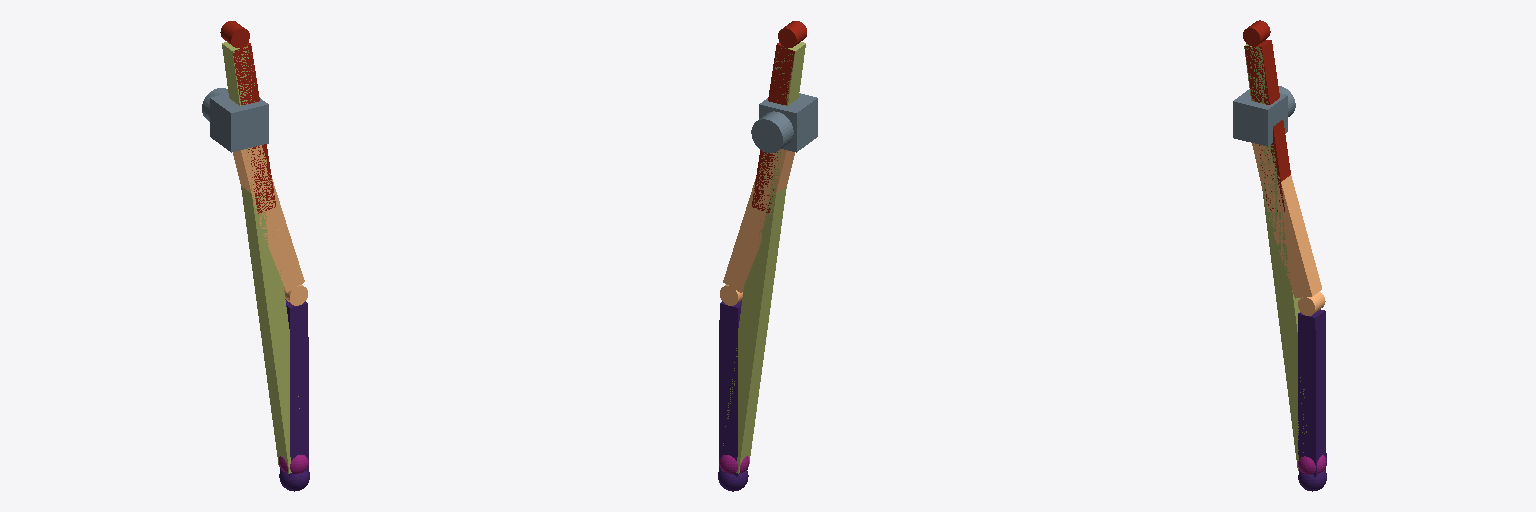
robot.urdf — Robot:
<?xml version="1.0"?>
<robot  name="Robot" >
 <link  name="G" >
  <visual >
   <origin  xyz="0.0 0.0 0.0"  rpy="0.0 0.0 0.0" />
   <geometry >
    <box  size="0.08 0.08 0.08" />
   </geometry>
   <material  name="G_Material" >
    <color  rgba="0.4635767949353661 0.5303853554431317 0.5782602221020643 1.0" />
   </material>
  </visual>
  <collision  name="G_Collision" >
   <origin  xyz="0.0 0.0 0.0"  rpy="0.0 0.0 0.0" />
   <geometry >
    <box  size="0.08 0.08 0.08" />
   </geometry>
  </collision>
  <inertial >
   <origin  xyz="0.0 0.0 0.0"  rpy="0.0 0.0 0.0" />
   <mass  value="1.3824000000000003" />
   <inertia  iyy="0.0014745600000000004"  ixx="0.0014745600000000004"  izz="0.0014745600000000004"  ixy="0.0"  ixz="0.0"  iyz="0.0" />
  </inertial>
 </link>
 <link  name="L3" >
  <visual >
   <origin  xyz="0.005943617642210461 0.0 0.3038690603844638"  rpy="3.141592653589793 0.06512675271764534 3.141592653589793" />
   <geometry >
    <box  size="0.04 0.04 0.14265370559522436" />
   </geometry>
   <material  name="L3_Material" >
    <color  rgba="0.9851078984464116 0.7204218086594748 0.4944865595912864 1.0" />
   </material>
  </visual>
  <collision  name="L3_0_Collision" >
   <origin  xyz="0.005943617642210461 0.0 0.3038690603844638"  rpy="3.141592653589793 0.06512675271764534 3.141592653589793" />
   <geometry >
    <box  size="0.04 0.04 0.14265370559522436" />
   </geometry>
  </collision>
  <visual >
   <origin  xyz="-3.147918948341396e-17 0.0 0.19750115024254924"  rpy="0.0 2.220446049250313e-16 0.0" />
   <geometry >
    <box  size="0.04 0.04 0.3550023004850985" />
   </geometry>
   <material  name="L3_Material" >
    <color  rgba="0.9851078984464116 0.7204218086594748 0.4944865595912864 1.0" />
   </material>
  </visual>
  <collision  name="L3_1_Collision" >
   <origin  xyz="-3.147918948341396e-17 0.0 0.19750115024254924"  rpy="0.0 2.220446049250313e-16 0.0" />
   <geometry >
    <box  size="0.04 0.04 0.3550023004850985" />
   </geometry>
  </collision>
  <visual >
   <origin  xyz="0.005943617642210492 0.0 0.10636791014191457"  rpy="-3.141592653589793 -0.055819872694982564 3.141592653589793" />
   <geometry >
    <box  size="0.04 0.04 0.17306767843701878" />
   </geometry>
   <material  name="L3_Material" >
    <color  rgba="0.9851078984464116 0.7204218086594748 0.4944865595912864 1.0" />
   </material>
  </visual>
  <collision  name="L3_2_Collision" >
   <origin  xyz="0.005943617642210492 0.0 0.10636791014191457"  rpy="-3.141592653589793 -0.055819872694982564 3.141592653589793" />
   <geometry >
    <box  size="0.04 0.04 0.17306767843701878" />
   </geometry>
  </collision>
  <inertial >
   <origin  xyz="0.00396 0.0 0.20258"  rpy="0.0 0.0 0.0" />
   <mass  value="0.12677810266135625" />
   <inertia  iyy="0.0008268292809323227"  ixx="0.0008427377742965327"  izz="1.789900067881942e-05"  ixy="7.5171507471343e-51"  ixz="-1.2755150548106077e-06"  iyz="0.0" />
  </inertial>
 </link>
 <link  name="L6" >
  <visual >
   <origin  xyz="-0.0007016416420337207 0.0 0.3613562880060314"  rpy="3.141592653589793 0.04429253598207983 3.141592653589793" />
   <geometry >
    <box  size="0.04 0.04 -0.008307476834583424" />
   </geometry>
   <material  name="L6_Material" >
    <color  rgba="0.2944306255017942 0.17547226215353084 0.4383372189066508 1.0" />
   </material>
  </visual>
  <collision  name="L6_0_Collision" >
   <origin  xyz="-0.0007016416420337207 0.0 0.3613562880060314"  rpy="3.141592653589793 0.04429253598207983 3.141592653589793" />
   <geometry >
    <box  size="0.04 0.04 -0.008307476834583424" />
   </geometry>
  </collision>
  <visual >
   <origin  xyz="-0.0007016416420286692 0.0 0.18859350415202025"  rpy="3.141592653589793 0.0037203741878473195 3.141592653589793" />
   <geometry >
    <box  size="0.04 0.04 0.33718961867650543" />
   </geometry>
   <material  name="L6_Material" >
    <color  rgba="0.2944306255017942 0.17547226215353084 0.4383372189066508 1.0" />
   </material>
  </visual>
  <collision  name="L6_1_Collision" >
   <origin  xyz="-0.0007016416420286692 0.0 0.18859350415202025"  rpy="3.141592653589793 0.0037203741878473195 3.141592653589793" />
   <geometry >
    <box  size="0.04 0.04 0.33718961867650543" />
   </geometry>
  </collision>
  <visual >
   <origin  xyz="-5.051514762044462e-15 0.0 0.17276278385401123"  rpy="0.0 3.175237850427948e-14 0.0" />
   <geometry >
    <box  size="0.04 0.04 0.30552556770802236" />
   </geometry>
   <material  name="L6_Material" >
    <color  rgba="0.2944306255017942 0.17547226215353084 0.4383372189066508 1.0" />
   </material>
  </visual>
  <collision  name="L6_2_Collision" >
   <origin  xyz="-5.051514762044462e-15 0.0 0.17276278385401123"  rpy="0.0 3.175237850427948e-14 0.0" />
   <geometry >
    <box  size="0.04 0.04 0.30552556770802236" />
   </geometry>
  </collision>
  <inertial >
   <origin  xyz="-0.00047 0.0 0.2409"  rpy="0.0 0.0 0.0" />
   <mass  value="0.013091496841132533" />
   <inertia  iyy="9.551859498546327e-05"  ixx="9.726269561934489e-05"  izz="1.7469651904203893e-06"  ixy="-2.3264454728053903e-24"  ixz="2.086384055509968e-07"  iyz="0.0" />
  </inertial>
 </link>
 <link  name="EE" >
  <visual >
   <origin  xyz="0.0 0.0 0.0"  rpy="0.0 0.0 0.0" />
   <geometry >
    <sphere  radius="0.028571428571428574" />
   </geometry>
   <material  name="EE_Material" >
    <color  rgba="0.6340190557065848 0.1770517687902704 0.5244006426398323 1.0" />
   </material>
  </visual>
  <collision  name="EE_Collision" >
   <origin  xyz="0.0 0.0 0.0"  rpy="0.0 0.0 0.0" />
   <geometry >
    <sphere  radius="0.028571428571428574" />
   </geometry>
  </collision>
  <inertial >
   <origin  xyz="0.0 0.0 0.0"  rpy="0.0 0.0 0.0" />
   <mass  value="0.2637838729544783" />
   <inertia  iyy="8.61335095361562e-05"  ixx="8.61335095361562e-05"  izz="8.61335095361562e-05"  ixy="0.0"  ixz="0.0"  iyz="0.0" />
  </inertial>
 </link>
 <link  name="L4" >
  <visual >
   <origin  xyz="-0.0 0.0 0.19476"  rpy="0.0 0.0 0.0" />
   <geometry >
    <box  size="0.04 0.04 0.3495130086573358" />
   </geometry>
   <material  name="L4_Material" >
    <color  rgba="0.6392964616141075 0.18049610535370353 0.11456833343742956 1.0" />
   </material>
  </visual>
  <collision  name="L4_Collision" >
   <origin  xyz="-0.0 0.0 0.19476"  rpy="0.0 0.0 0.0" />
   <geometry >
    <box  size="0.04 0.04 0.3495130086573358" />
   </geometry>
  </collision>
  <inertial >
   <origin  xyz="-0.0 0.0 0.19476"  rpy="0.0 0.0 0.0" />
   <mass  value="1.5098961973996907" />
   <inertia  iyy="0.015571980143468542"  ixx="0.015571980143468542"  izz="0.00040263898597325083"  ixy="0.0"  ixz="0.0"  iyz="0.0" />
  </inertial>
 </link>
 <link  name="L5" >
  <visual >
   <origin  xyz="0.0 0.0 0.47072"  rpy="0.0 0.0 0.0" />
   <geometry >
    <box  size="0.04 0.04 0.9014390147491013" />
   </geometry>
   <material  name="L5_Material" >
    <color  rgba="0.6937715577541456 0.7314644730712613 0.4265329929977979 1.0" />
   </material>
  </visual>
  <collision  name="L5_Collision" >
   <origin  xyz="0.0 0.0 0.47072"  rpy="0.0 0.0 0.0" />
   <geometry >
    <box  size="0.04 0.04 0.9014390147491013" />
   </geometry>
  </collision>
  <inertial >
   <origin  xyz="0.0 0.0 0.47072"  rpy="0.0 0.0 0.0" />
   <mass  value="3.894216543716118" />
   <inertia  iyy="0.26422009282983017"  ixx="0.26422009282983017"  izz="0.0010384577449909648"  ixy="0.0"  ixz="0.0"  iyz="0.0" />
  </inertial>
 </link>
 <joint  type="revolute"  name="G0main" >
  <parent  link="G" />
  <child  link="L3" />
  <origin  xyz="0.0 0.0 0.0"  rpy="3.141592653589793 0.2983891655602269 3.141592653589793" />
  <axis  xyz="0 1 0" />
  <limit  effort="5.3999999999999995"  upper="3.141592653589793"  velocity="17.907078125461823"  lower="-3.141592653589793" />
  <dynamics  damping="0.05"  friction="0" />
 </joint>
 <joint  type="fixed"  name="G0main_G_WeldActuator" >
  <parent  link="G" />
  <child  link="G0main_GActuator" />
  <origin  xyz="0.0 0.05975 0.0"  rpy="-1.5707963267948972 0.29838916556022665 -3.141592653589793" />
 </joint>
 <link  name="G0main_GActuator" >
  <visual >
   <geometry >
    <cylinder  length="0.0395"  radius="0.034" />
   </geometry>
   <material  name="G0main_GActuator_Material" >
    <color  rgba="0.4635767949353661 0.5303853554431317 0.5782602221020643 0.9" />
   </material>
  </visual>
  <inertial >
   <inertia  iyy="0.004339333333333334"  ixx="0.004339333333333334"  izz="0.006256"  ixy="0.0"  ixz="0.0"  iyz="0.0" />
   <mass  value="0.1" />
  </inertial>
 </link>
 <link  name="G0main_GUnit" >
  <visual >
   <geometry >
    <cylinder  length="0.08"  radius="0.04" />
   </geometry>
   <material  name="G0main_GUnit_Material" >
    <color  rgba="0.4635767949353661 0.5303853554431317 0.5782602221020643 0.9" />
   </material>
  </visual>
  <inertial >
   <inertia  iyy="0.0016666666666666666"  ixx="0.0016666666666666666"  izz="0.002"  ixy="0.0"  ixz="0.0"  iyz="0.0" />
   <mass  value="0.1" />
  </inertial>
 </link>
 <joint  type="fixed"  name="G0main_G_WeldUnit" >
  <parent  link="G" />
  <child  link="G0main_GUnit" />
  <origin  xyz="0.0 0.0 0.0"  rpy="-1.5707963267948972 0.29838916556022665 -3.141592653589793" />
 </joint>
 <joint  type="revolute"  name="J0m" >
  <parent  link="L3" />
  <child  link="L6" />
  <origin  xyz="-6.295837896682792e-17 0.0 0.3950023004850985"  rpy="0.0 0.2953707173551767 0.0" />
  <axis  xyz="0 1 0" />
  <limit  effort="600.0"  upper="3.141592653589793"  velocity="6.283185307179586"  lower="-3.141592653589793" />
  <dynamics  damping="0.05"  friction="0" />
 </joint>
 <link  name="J0m_L3Unit" >
  <visual >
   <geometry >
    <cylinder  length="0.04"  radius="0.02" />
   </geometry>
   <material  name="J0m_L3Unit_Material" >
    <color  rgba="0.9851078984464116 0.7204218086594748 0.4944865595912864 0.9" />
   </material>
  </visual>
  <inertial >
   <inertia  iyy="0.0008333333333333333"  ixx="0.0008333333333333333"  izz="0.001"  ixy="0.0"  ixz="0.0"  iyz="0.0" />
   <mass  value="0.1" />
  </inertial>
 </link>
 <joint  type="fixed"  name="J0m_L3_WeldUnit" >
  <parent  link="L3" />
  <child  link="J0m_L3Unit" />
  <origin  xyz="-6.295837896682792e-17 0.0 0.3950023004850985"  rpy="1.5707963267948966 0.29537071735517695 -1.1102230246251565e-16" />
 </joint>
 <joint  type="revolute"  name="Jee" >
  <parent  link="L6" />
  <child  link="EE" />
  <origin  xyz="-1.0103029524088925e-14 0.0 0.3455255677080224"  rpy="3.141592653589793 -0.0030184482050499284 3.141592653589793" />
  <axis  xyz="0 1 0" />
  <limit  effort="600.0"  upper="3.141592653589793"  velocity="6.283185307179586"  lower="-3.141592653589793" />
  <dynamics  damping="0.05"  friction="0" />
 </joint>
 <link  name="Jee_L6Unit" >
  <visual >
   <geometry >
    <cylinder  length="0.04"  radius="0.02" />
   </geometry>
   <material  name="Jee_L6Unit_Material" >
    <color  rgba="0.2944306255017942 0.17547226215353084 0.4383372189066508 0.9" />
   </material>
  </visual>
  <inertial >
   <inertia  iyy="0.0008333333333333333"  ixx="0.0008333333333333333"  izz="0.001"  ixy="0.0"  ixz="0.0"  iyz="0.0" />
   <mass  value="0.1" />
  </inertial>
 </link>
 <joint  type="fixed"  name="Jee_L6_WeldUnit" >
  <parent  link="L6" />
  <child  link="Jee_L6Unit" />
  <origin  xyz="-1.0103029524088925e-14 0.0 0.3455255677080224"  rpy="-1.5707963267948966 -0.0030184482050497063 -3.141592653589793" />
 </joint>
 <joint  type="revolute"  name="J0_0" >
  <parent  link="L3" />
  <child  link="L4" />
  <origin  xyz="0.011887235284420984 0.0 0.21273582028382915"  rpy="3.141592653589793 -0.14431597602384483 3.141592653589793" />
  <axis  xyz="0 1 0" />
  <limit  effort="600.0"  upper="3.141592653589793"  velocity="6.283185307179586"  lower="-3.141592653589793" />
  <dynamics  damping="0.05"  friction="0" />
 </joint>
 <link  name="J0_0_L3Unit" >
  <visual >
   <geometry >
    <cylinder  length="0.04"  radius="0.02" />
   </geometry>
   <material  name="J0_0_L3Unit_Material" >
    <color  rgba="0.9851078984464116 0.7204218086594748 0.4944865595912864 0.9" />
   </material>
  </visual>
  <inertial >
   <inertia  iyy="0.0008333333333333333"  ixx="0.0008333333333333333"  izz="0.001"  ixy="0.0"  ixz="0.0"  iyz="0.0" />
   <mass  value="0.1" />
  </inertial>
 </link>
 <joint  type="fixed"  name="J0_0_L3_WeldUnit" >
  <parent  link="L3" />
  <child  link="J0_0_L3Unit" />
  <origin  xyz="0.011887235284420984 0.0 0.21273582028382915"  rpy="-1.570796326794897 -0.14431597602384505 3.1415926535897927" />
 </joint>
 <joint  type="revolute"  name="J1_0" >
  <parent  link="L4" />
  <child  link="L5" />
  <origin  xyz="-6.938893903907228e-18 0.0 0.38951300865733574"  rpy="3.141592653589793 -0.018478869246324248 3.141592653589793" />
  <axis  xyz="0 1 0" />
  <limit  effort="600.0"  upper="3.141592653589793"  velocity="6.283185307179586"  lower="-3.141592653589793" />
  <dynamics  damping="0.05"  friction="0" />
 </joint>
 <link  name="J1_0_L4Unit" >
  <visual >
   <geometry >
    <cylinder  length="0.04"  radius="0.02" />
   </geometry>
   <material  name="J1_0_L4Unit_Material" >
    <color  rgba="0.6392964616141075 0.18049610535370353 0.11456833343742956 0.9" />
   </material>
  </visual>
  <inertial >
   <inertia  iyy="0.0008333333333333333"  ixx="0.0008333333333333333"  izz="0.001"  ixy="0.0"  ixz="0.0"  iyz="0.0" />
   <mass  value="0.1" />
  </inertial>
 </link>
 <joint  type="fixed"  name="J1_0_L4_WeldUnit" >
  <parent  link="L4" />
  <child  link="J1_0_L4Unit" />
  <origin  xyz="-6.938893903907228e-18 0.0 0.38951300865733574"  rpy="-1.570796326794897 -0.018478869246324248 3.1415926535897927" />
 </joint>
 <link  name="J2_0_L6Pseudo" >
  <visual >
   <geometry >
    <sphere  radius="0.028571428571428574" />
   </geometry>
   <material  name="J2_0_L6Pseudo_Material" >
    <color  rgba="0.2944306255017942 0.17547226215353084 0.4383372189066508 0.5" />
   </material>
  </visual>
 </link>
 <joint  type="revolute"  name="J2_0_L6_revolute" >
  <parent  link="L6" />
  <child  link="J2_0_L6Pseudo" />
  <origin  xyz="-0.0014032832840573384 0.0 0.37718700830404045"  rpy="0.0 0.0 0.0" />
  <axis  xyz="0 1 0" />
  <limit  effort="600.0"  upper="3.141592653589793"  velocity="6.283185307179586"  lower="-3.141592653589793" />
  <dynamics  damping="0.05"  friction="0" />
 </joint>
 <joint  type="fixed"  name="J2_0_L6_Weld" >
  <parent  link="L5" />
  <child  link="J2_0_L5Pseudo" />
  <origin  xyz="3.122502256758253e-16 0.0 0.9414390147491014"  rpy="0.0 0.13257587208500743 0.0" />
 </joint>
 <link  name="J2_0_L5Pseudo" >
  <visual >
   <geometry >
    <sphere  radius="0.028571428571428574" />
   </geometry>
   <material  name="J2_0_L5Pseudo_Material" >
    <color  rgba="0.6937715577541456 0.7314644730712613 0.4265329929977979 0.5" />
   </material>
  </visual>
 
 </link>
</robot>

--- What the picture shows (computed from the rendered views, not written in the file) ---
3 views of the same robot in one strip: view 1: azimuth 30°, elevation 25°; view 2: azimuth 150°, elevation 25°; view 3: azimuth 330°, elevation 25° (orthographic).
Model Robot with 14 links and 13 joints (6 revolute, 7 fixed), rooted at G, posed all joints at 0.
Visible links, largest first — view 1: L5, L3, L6, G, L4, J1_0_L4Unit; view 2: L5, L6, L3, G, L4, G0main_GActuator, J1_0_L4Unit; view 3: L6, L3, L5, L4, G.
Link boxes in pixels (x1=…): L5: x1=222, y1=42, x2=299, y2=473; L3: x1=233, y1=145, x2=304, y2=292; L6: x1=280, y1=299, x2=308, y2=476; G: x1=210, y1=93, x2=268, y2=152; L4: x1=233, y1=42, x2=275, y2=213; J1_0_L4Unit: x1=220, y1=21, x2=249, y2=47; L5: x1=723, y1=42, x2=805, y2=473; L6: x1=719, y1=300, x2=747, y2=476; L3: x1=723, y1=149, x2=794, y2=292; G: x1=759, y1=93, x2=817, y2=152; L4: x1=752, y1=42, x2=794, y2=212; G0main_GActuator: x1=751, y1=111, x2=793, y2=152; J1_0_L4Unit: x1=778, y1=21, x2=806, y2=47; L6: x1=1298, y1=309, x2=1326, y2=476; L3: x1=1252, y1=143, x2=1321, y2=298; L5: x1=1244, y1=44, x2=1306, y2=470; L4: x1=1244, y1=40, x2=1290, y2=211; G: x1=1233, y1=89, x2=1287, y2=146.
Bounding box of the posed robot: 0.1872 × 0.1195 × 0.9813 m (x, y, z).
Geometry: primitives only (box / cylinder / sphere), no mesh files.